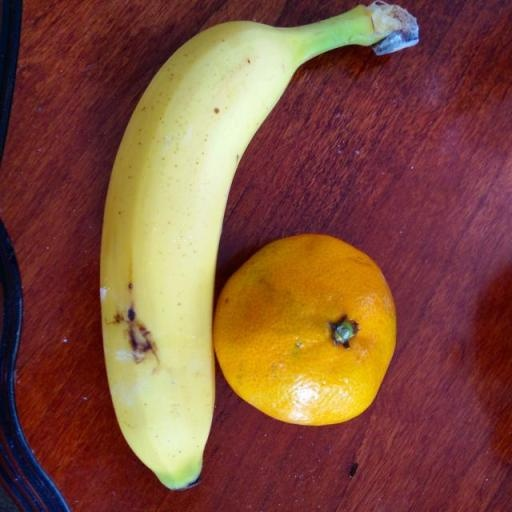fruit: (100, 3, 415, 488), (213, 235, 395, 424)
